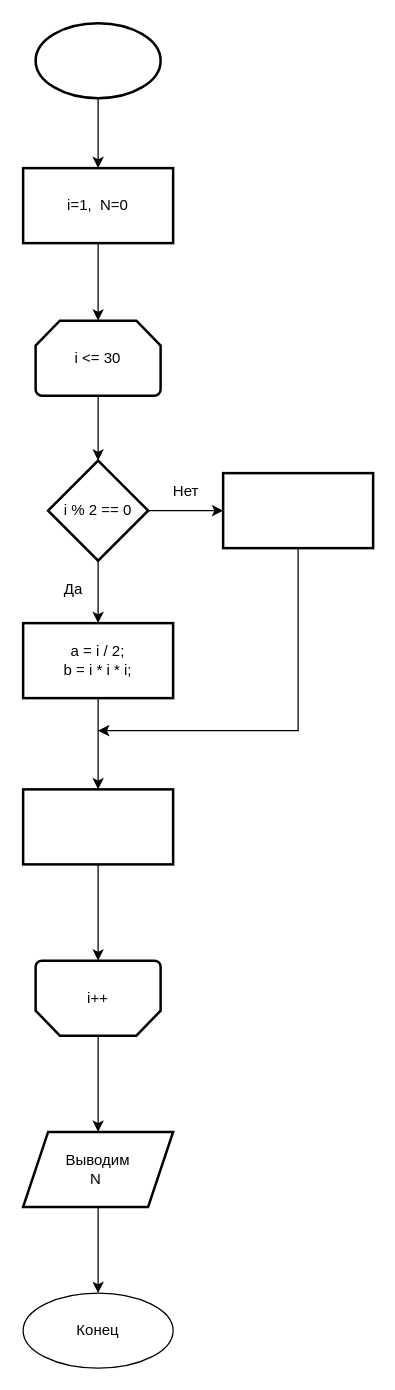
Some shapes in this 395 by 1390 pixel diagram are drawn without their labels. Each missing label, with the box of its shape:
a = i; b = i * i;: (221, 471, 374, 549)
N = N + (a - b) * (a - b): (21, 788, 174, 865)
Начало: (34, 21, 161, 99)
